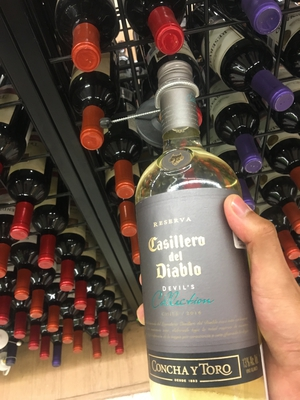casillero del diablo devils collection verde: (130, 57, 274, 398)
